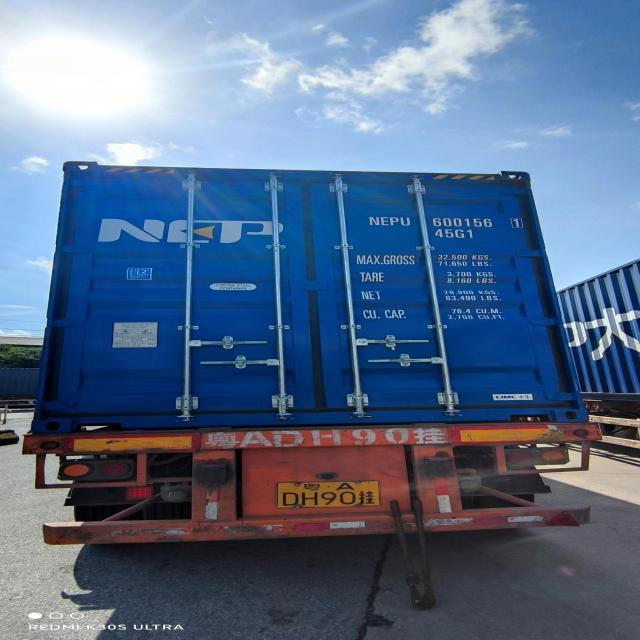ISO: (434, 228, 477, 245)
container_number: (360, 208, 528, 234)
